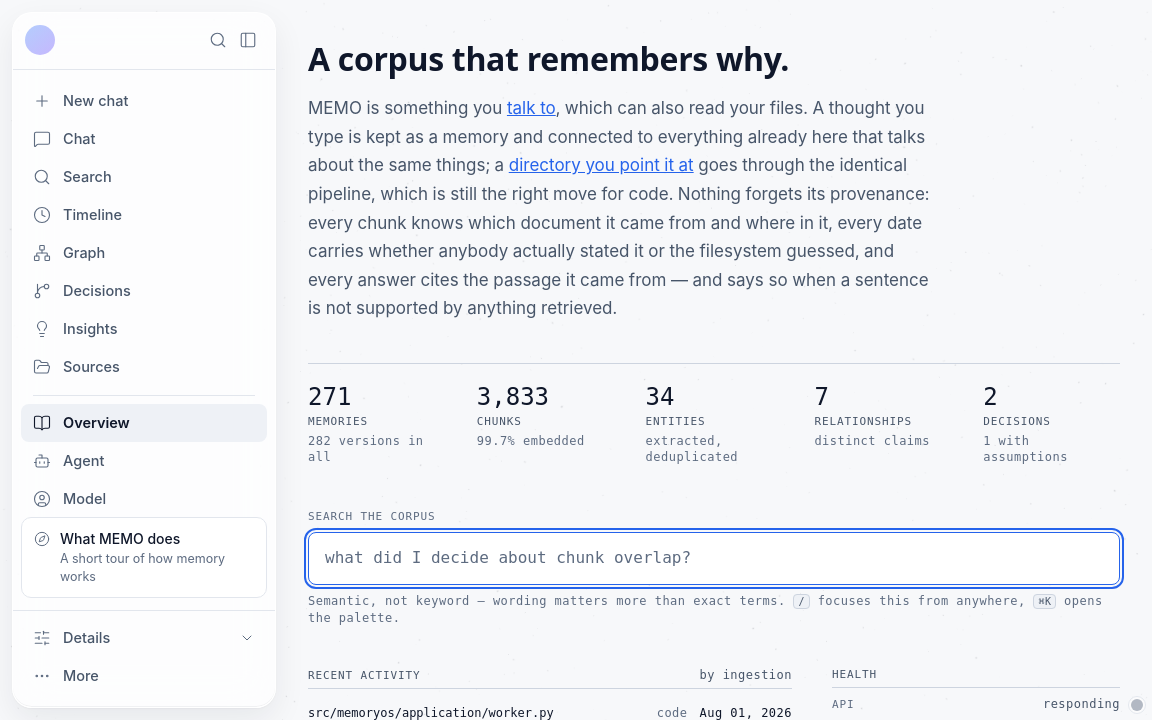
the search box › hands the query to the search route rather than running it here
Type "chunk overlap" into the field named "Search query".
click(714, 558); type("chunk overlap")  # box [308,532,1120,585]
Then press Enter
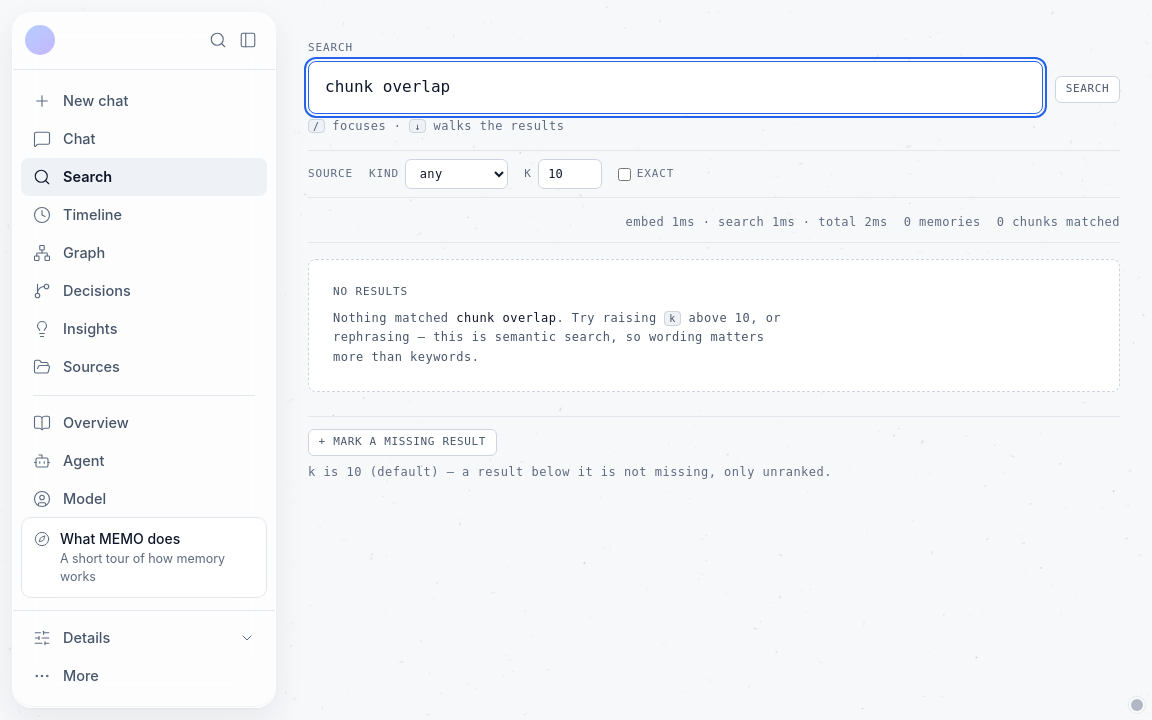
Expected: the text "no results" is shown, [333,286,408,298]
Expected: the field named "Search query" holds "chunk overlap", [308,60,1043,114]
